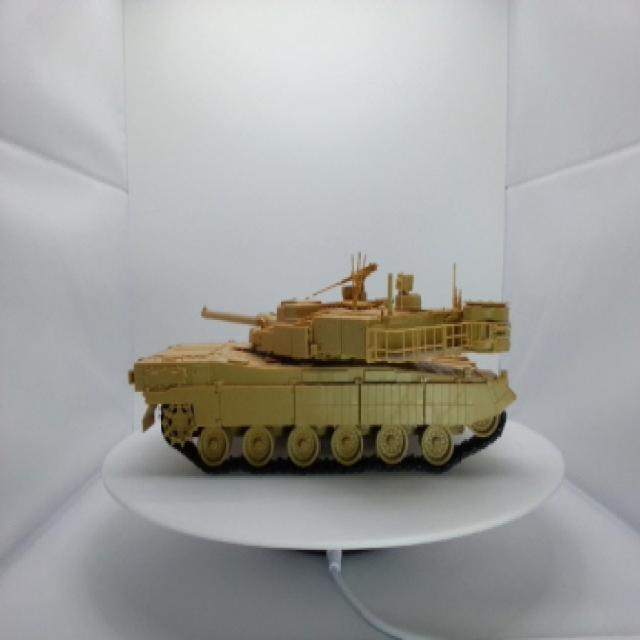korea tank: (110, 244, 536, 497)
